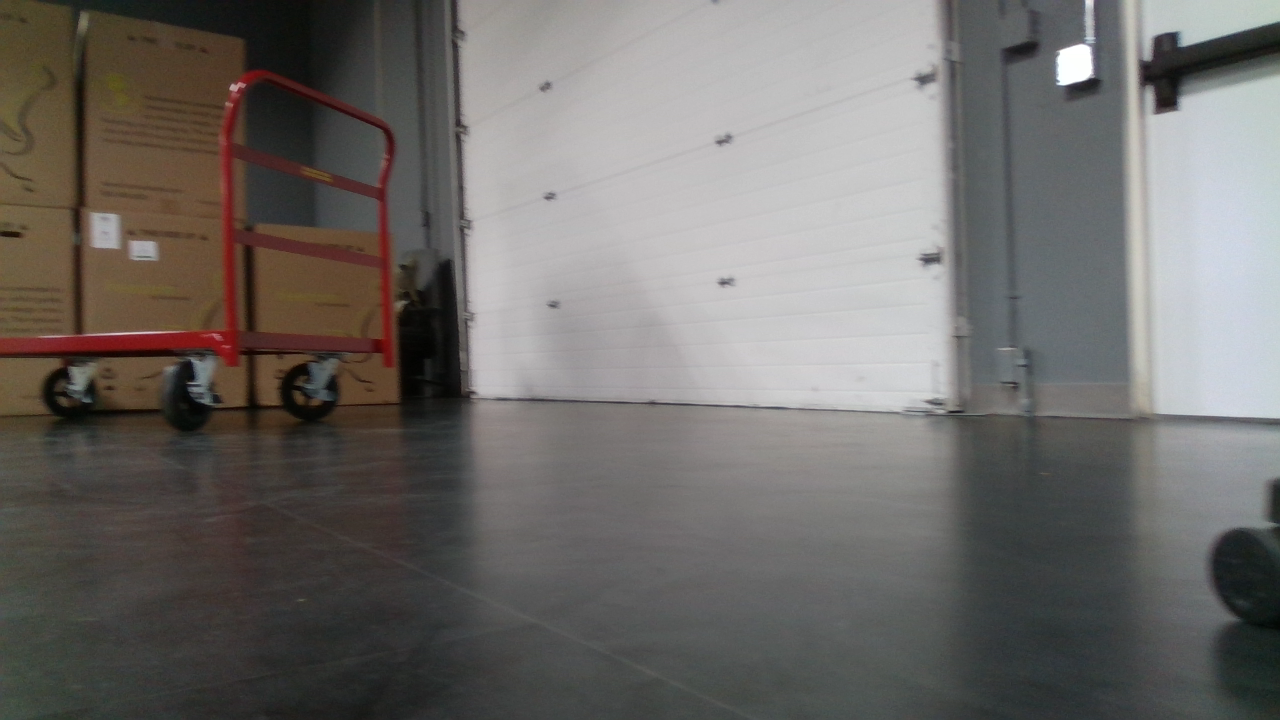Dolly: (0, 51, 411, 432)
Wheel: (148, 355, 221, 438), (39, 357, 108, 438), (277, 361, 352, 427)
